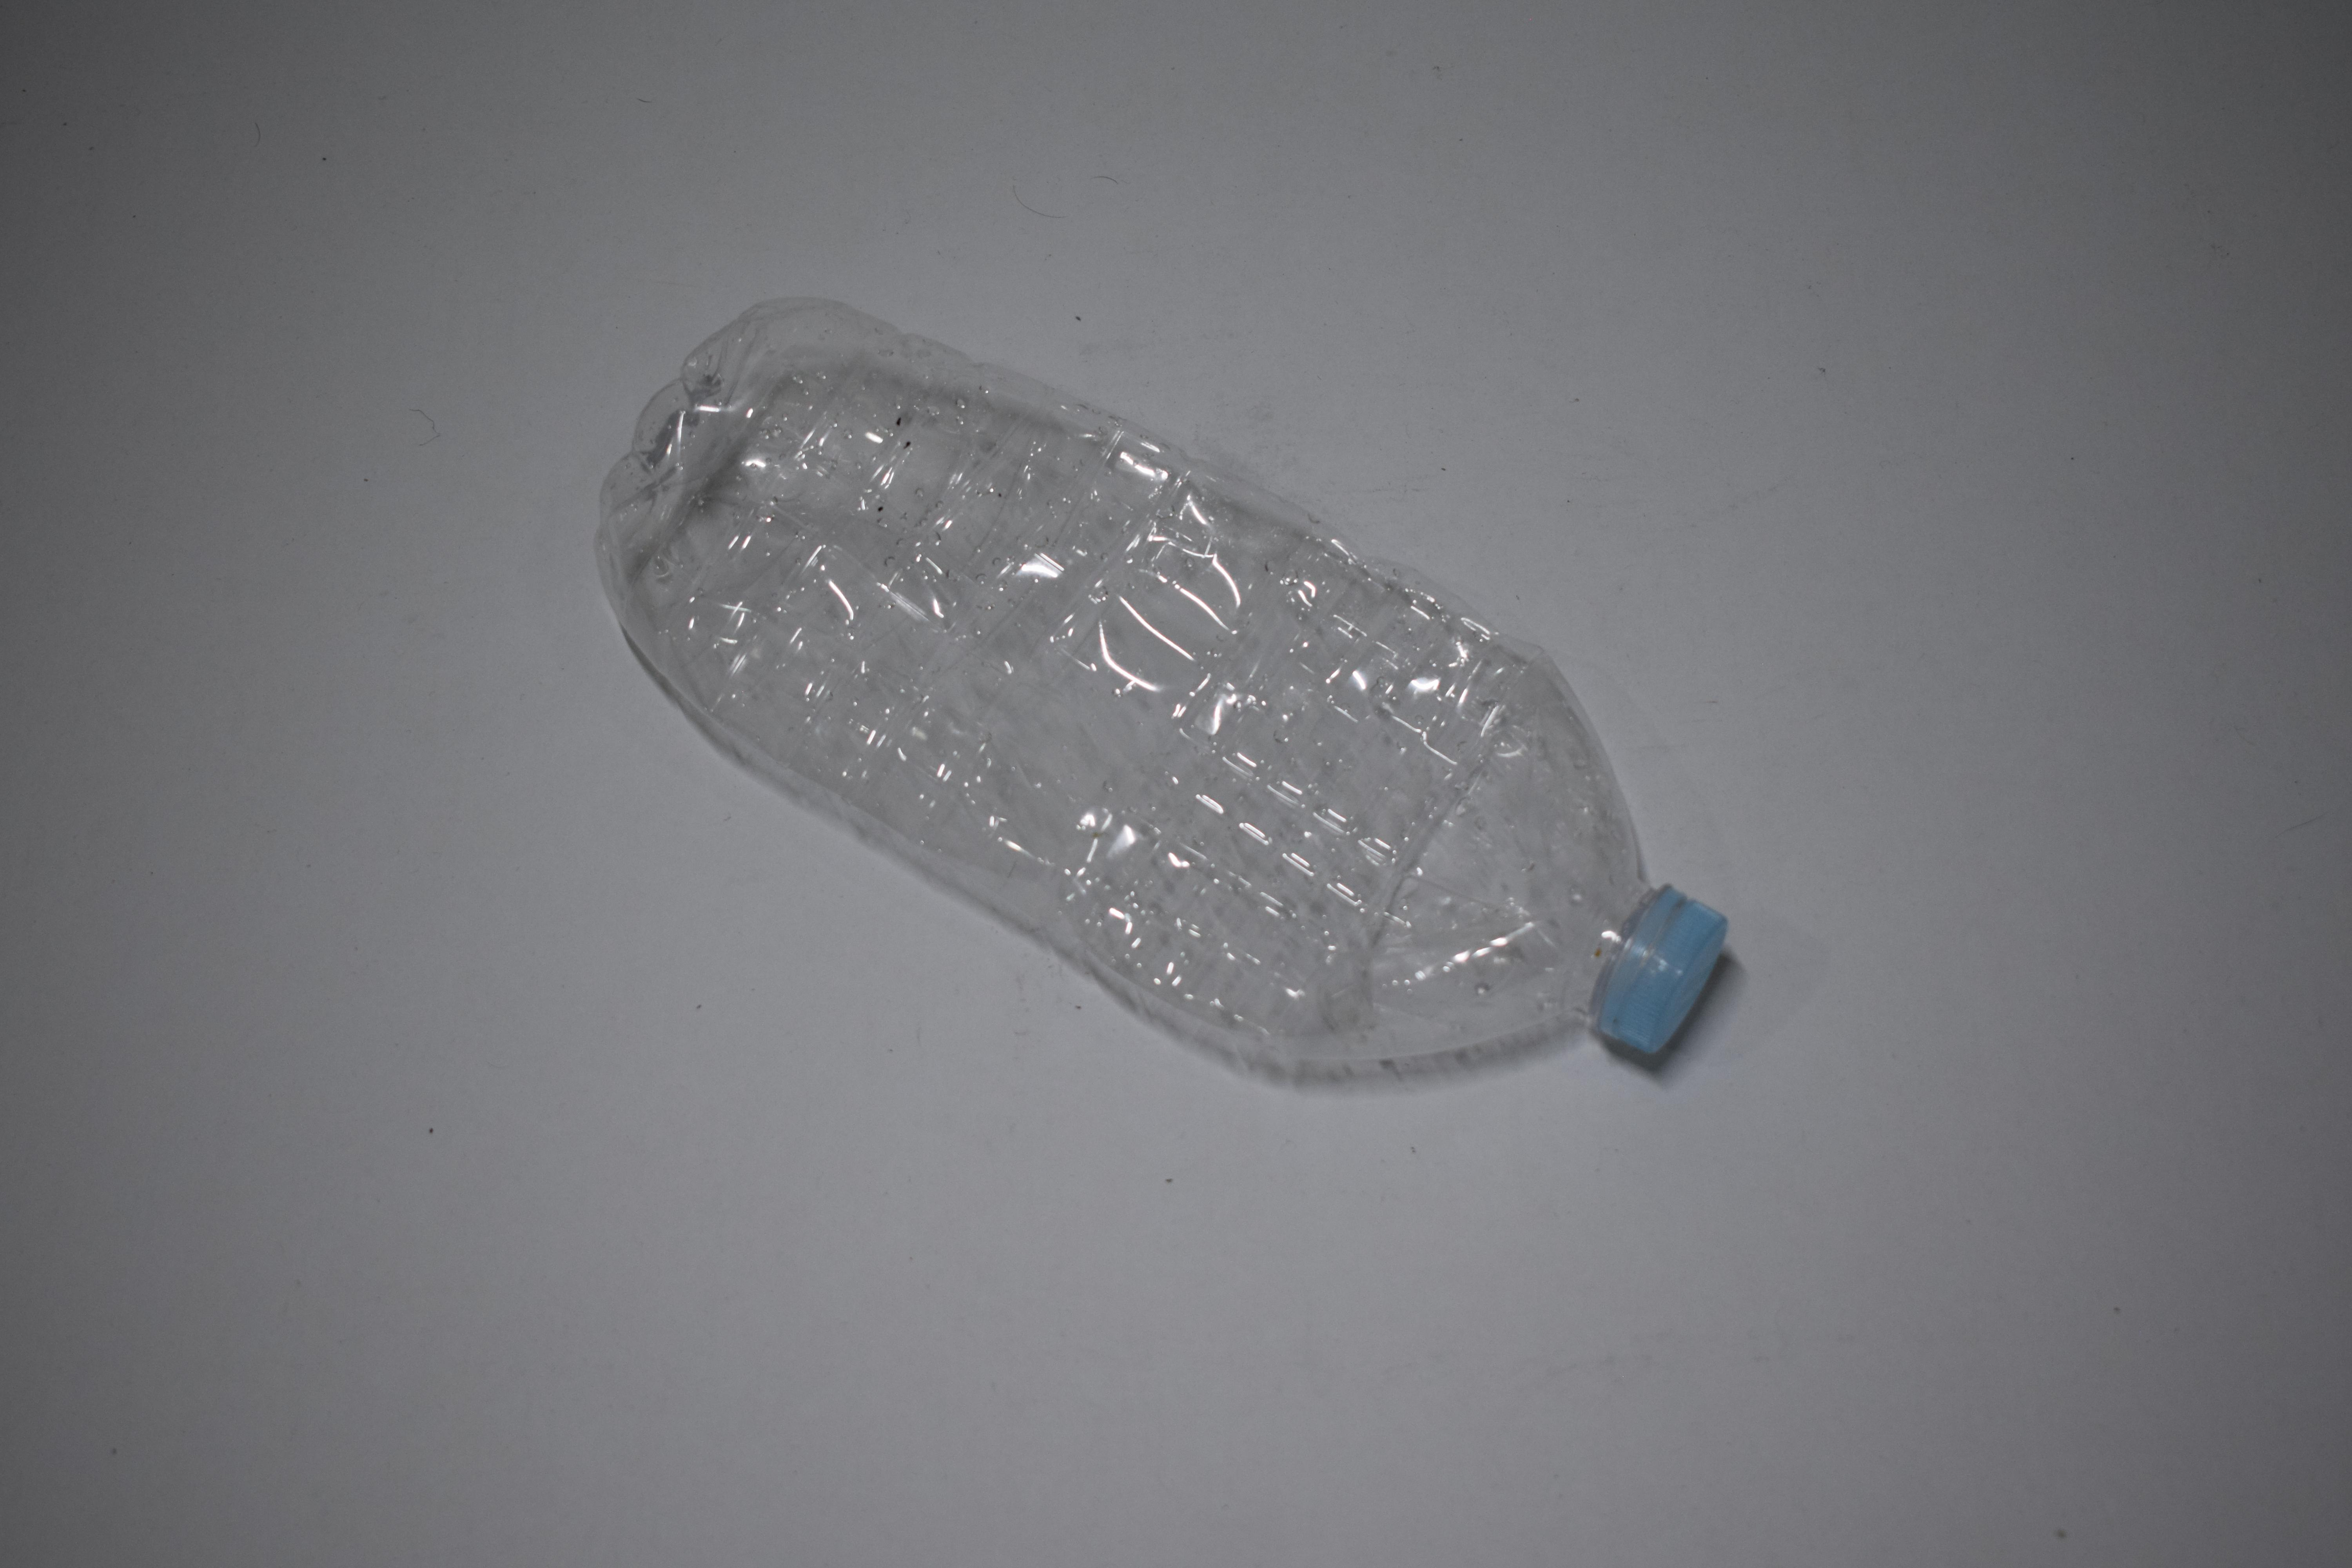bottle: (592, 667, 1745, 683)
